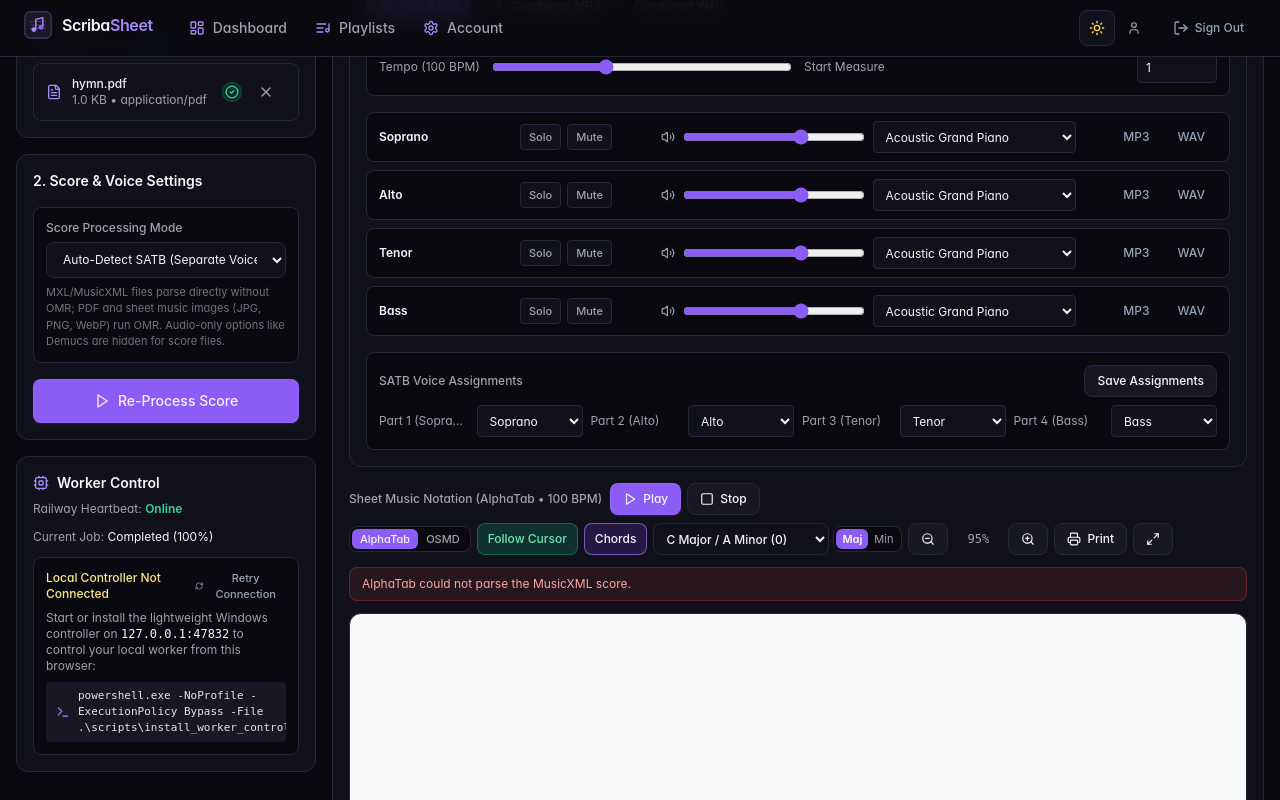
Test: Re-Processing Clean State & Stale Job Protection › shows error state rather than restoring previous SATB score when a new job fails
This screenshot has width=1280, height=800.
(page scrolled)
Click the button "Re-Process Score" at (166, 400), box x1=33 y1=378 x2=299 y2=422
(page scrolled)
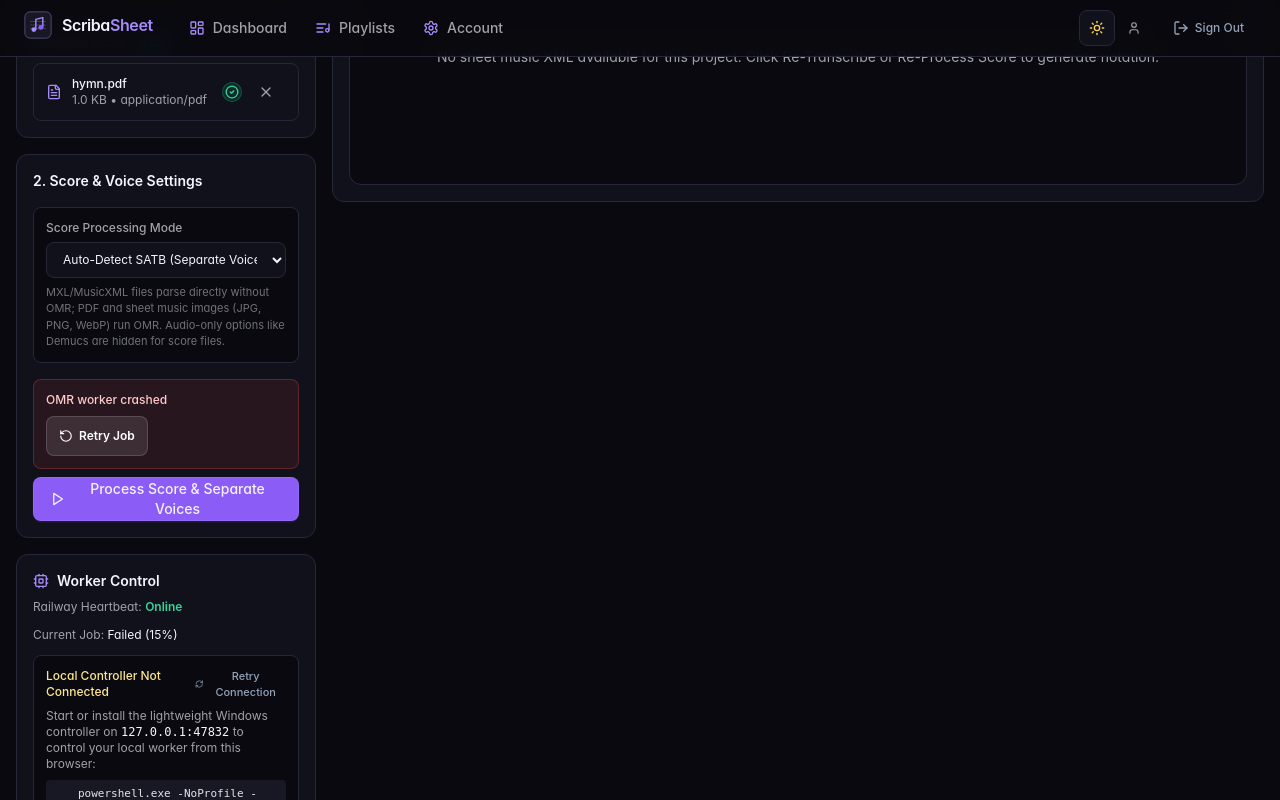
Now the text "OMR worker crashed" is shown, box x1=46 y1=392 x2=167 y2=406
